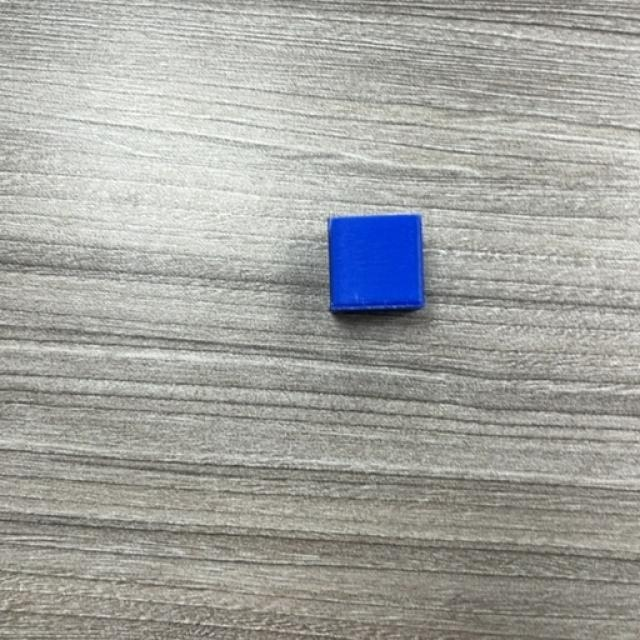Azul: (329, 212, 425, 315)
